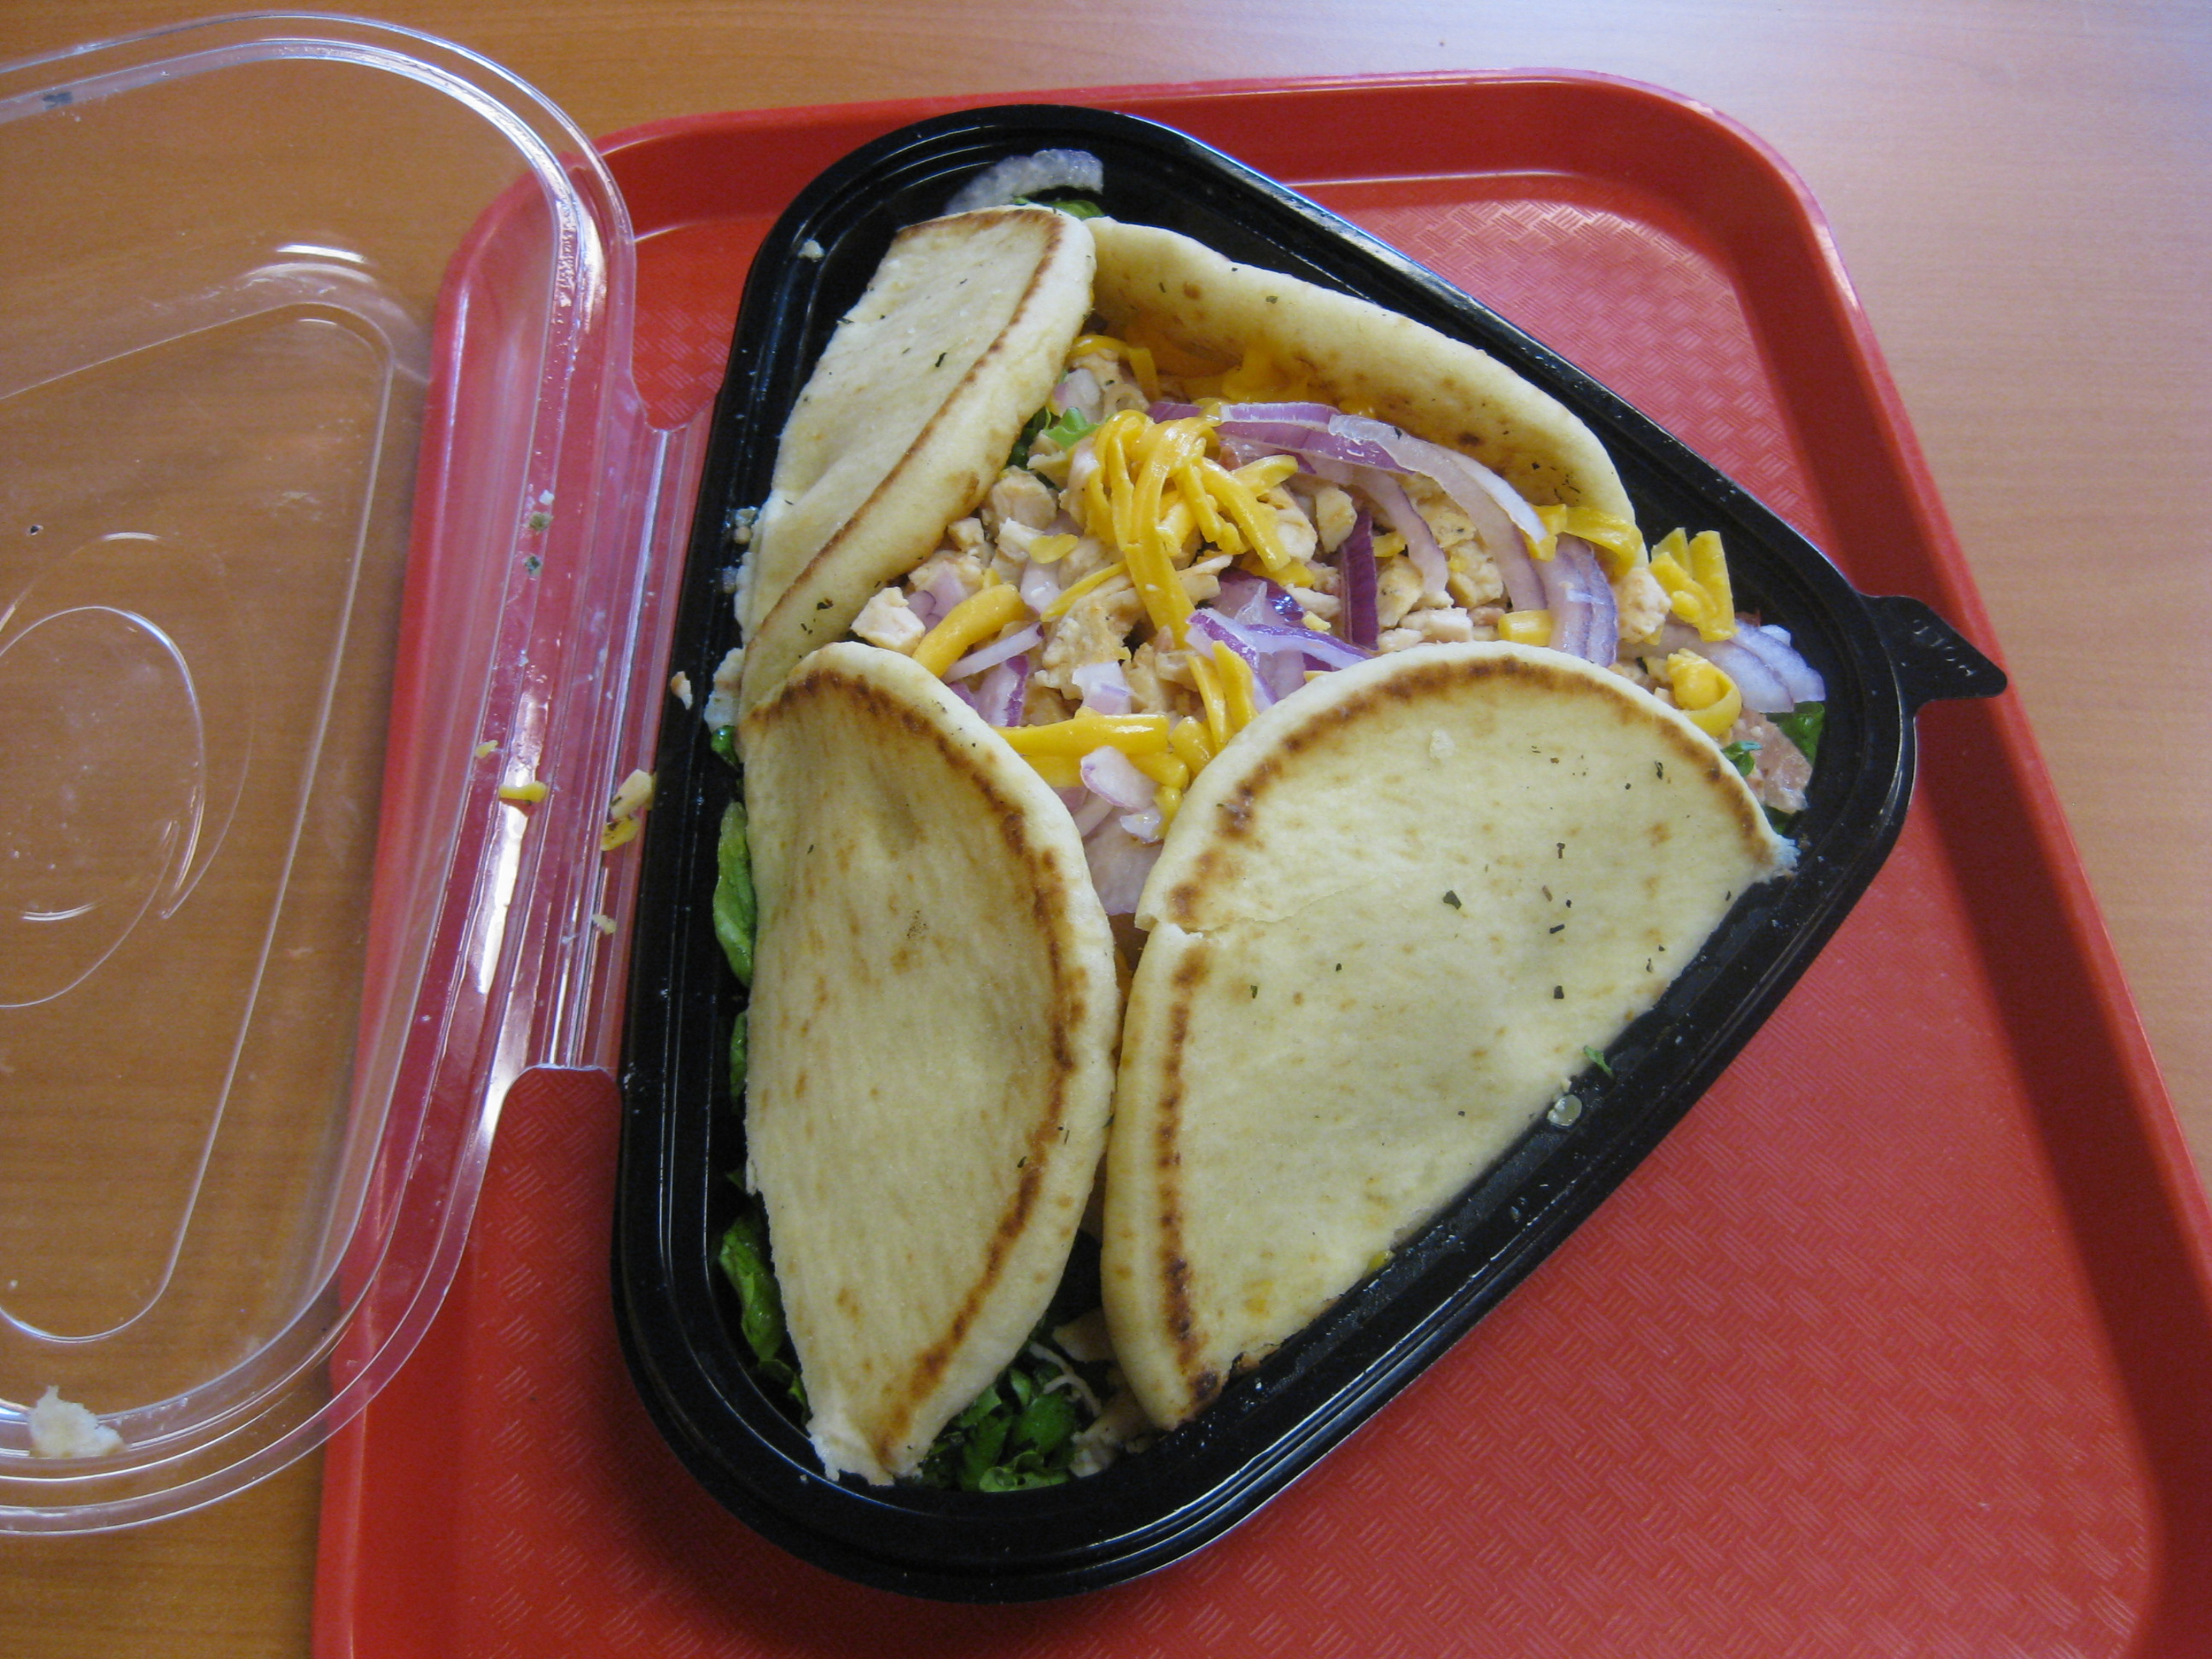burrito: (680, 131, 1849, 1516)
